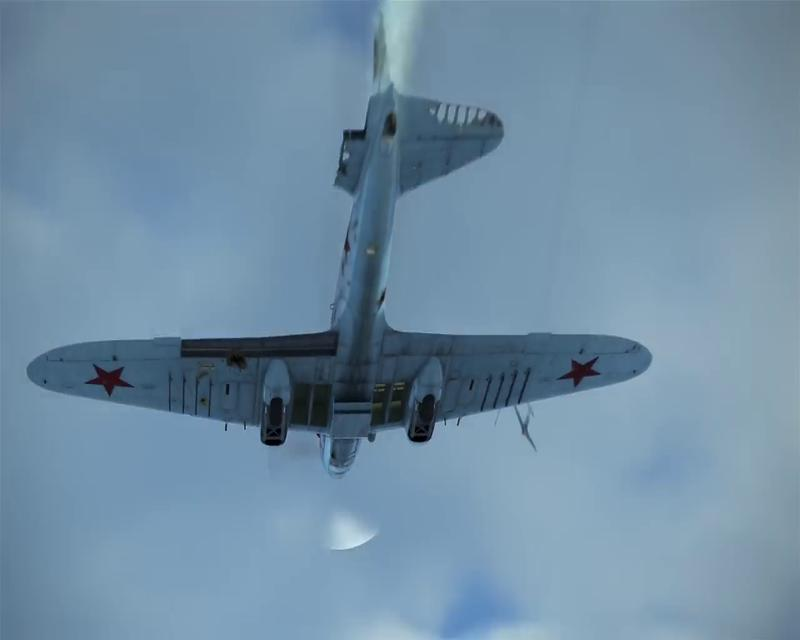UAV: (26, 14, 653, 478)
